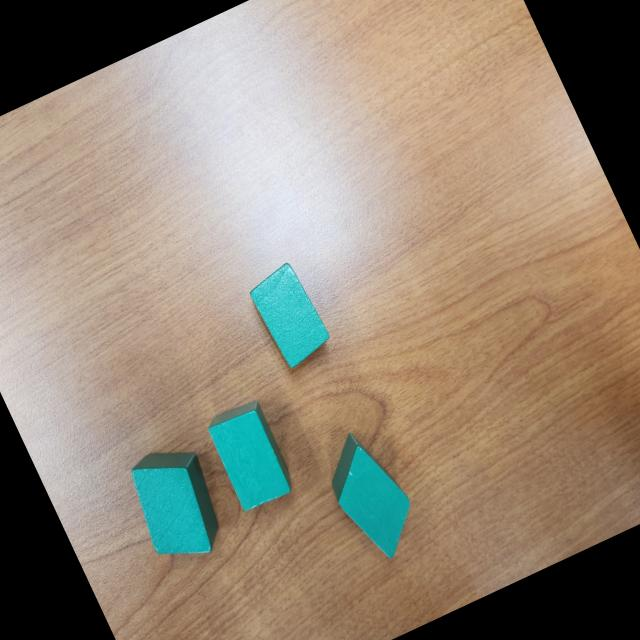green: (116, 436, 238, 575), (313, 422, 429, 568), (202, 396, 302, 516), (244, 259, 336, 374)
